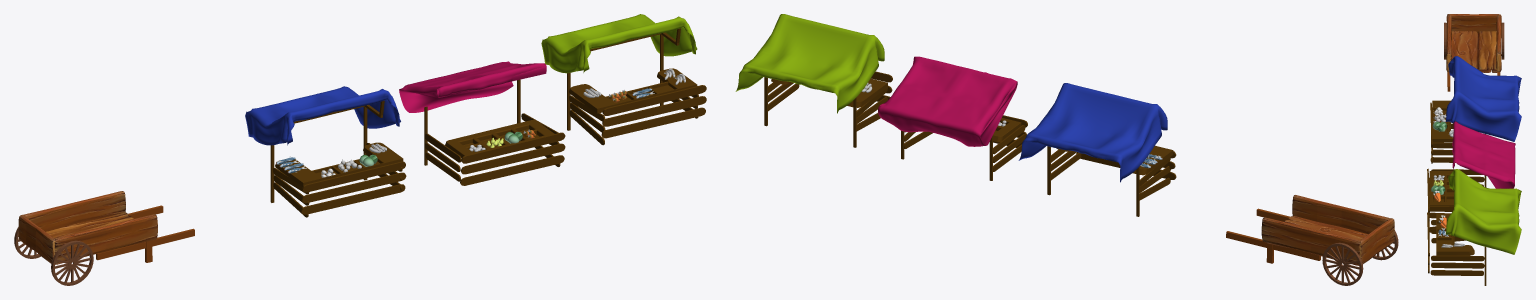
The model's file is feiraaa.fbx.
3 renders of one model, left to right at view 1: azimuth 30°, elevation 25°; view 2: azimuth 150°, elevation 25°; view 3: azimuth 270°, elevation 25°, orthographic. The views are drawn at different scales.
Visible parts, largest first — view 1: Cube.040, pCylinder2, pCylinder2_blinn2_0.001, pPlane7_outputCloth6, pCube25, pCube27_Wood_0.001, pCube24, pCube7_Wood_0.001, pCube1, pCube7, Cube.040_Marrom.002_0.001, Cube (+1 smaller); view 2: pPlane7_outputCloth6, pCylinder2, pCylinder2_blinn2_0.001, Cube.040, pCube24, Cube.040_Marrom.002_0.001, pCube27_Wood_0.001, pCube25, Cube, pCube7_Wood_0.001, pCube7; view 3: pCylinder2_blinn2_0.001, pCylinder2, Cube.040, pPlane7_outputCloth6, pCube27_Wood_0.001, pCube7_Wood_0.001, pCube1, pCube25, pCube24, pCube7, Cube.040_Marrom.002_0.001, pCylinder2_Wood_0.001 (+6 smaller).
Part boxes in pixels (x1,y1,x2,y2): Cube.040: (18, 191, 157, 264); pCylinder2: (245, 86, 400, 202); pCylinder2_blinn2_0.001: (541, 14, 697, 73); pPlane7_outputCloth6: (399, 61, 546, 165); pCube25: (425, 113, 565, 185); pCube27_Wood_0.001: (569, 82, 706, 145); pCube24: (273, 143, 406, 217); pCube7_Wood_0.001: (569, 68, 697, 113); pCube1: (445, 120, 554, 158); pCube7: (275, 142, 403, 186); Cube.040_Marrom.002_0.001: (14, 227, 93, 285); Cube: (96, 205, 194, 262); pPlane7_outputCloth6: (878, 56, 1017, 180); pCylinder2: (1018, 83, 1167, 216); pCylinder2_blinn2_0.001: (735, 14, 884, 113); Cube.040: (1261, 195, 1394, 265); pCube24: (1051, 149, 1176, 200); Cube.040_Marrom.002_0.001: (1322, 230, 1398, 285); pCube27_Wood_0.001: (768, 71, 892, 131); pCube25: (904, 115, 1027, 171); Cube: (1226, 208, 1320, 263); pCube7_Wood_0.001: (771, 78, 887, 107); pCube7: (1056, 145, 1173, 175); pCylinder2_blinn2_0.001: (1446, 169, 1521, 254); pCylinder2: (1446, 56, 1521, 141); Cube.040: (1446, 14, 1501, 72); pPlane7_outputCloth6: (1452, 121, 1515, 188); pCube27_Wood_0.001: (1427, 212, 1484, 275); pCube7_Wood_0.001: (1436, 213, 1474, 255); pCube1: (1429, 171, 1454, 206); pCube25: (1427, 168, 1484, 232); pCube24: (1430, 102, 1455, 163); pCube7: (1432, 100, 1453, 142); Cube.040_Marrom.002_0.001: (1444, 22, 1504, 59); pCylinder2_Wood_0.001: (1484, 246, 1486, 285).
Bounding box in the file's own units: 1756 × 290 × 284.
